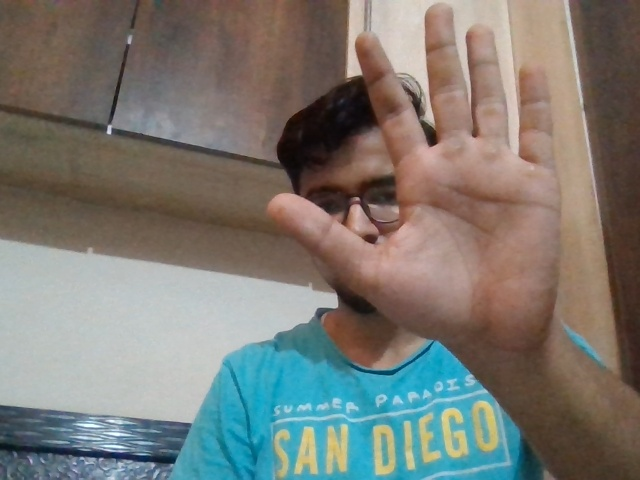hello: (285, 14, 578, 349)
